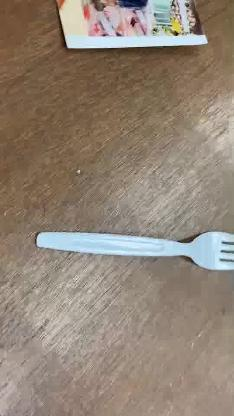Others: (36, 230, 234, 272)
